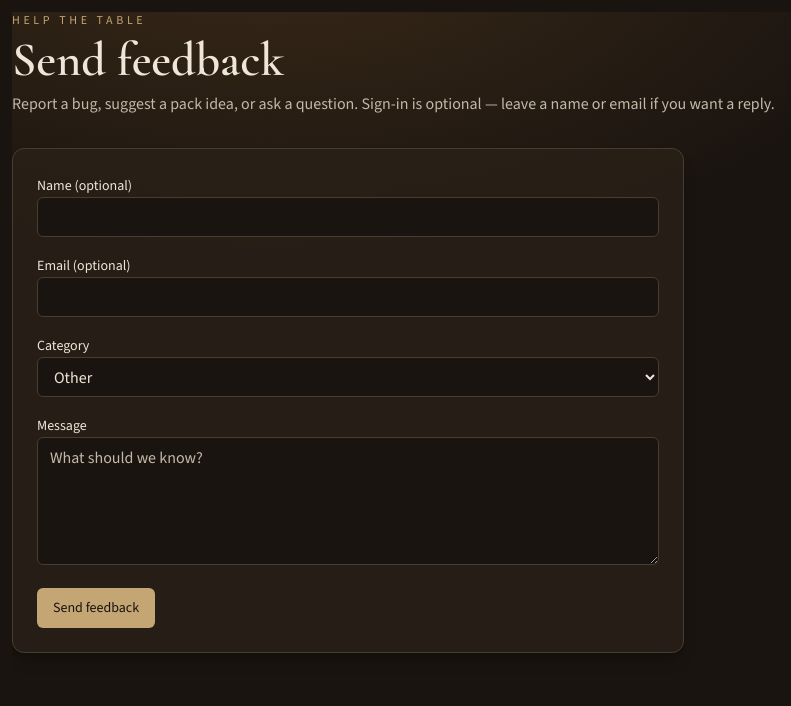
Test case: FeedbackPage › shows an error when the API rejects the submission
In the text box labelled "Message": (348, 501) x1=37 y1=437 x2=659 y2=565, type "The catalog filters are hard to use."
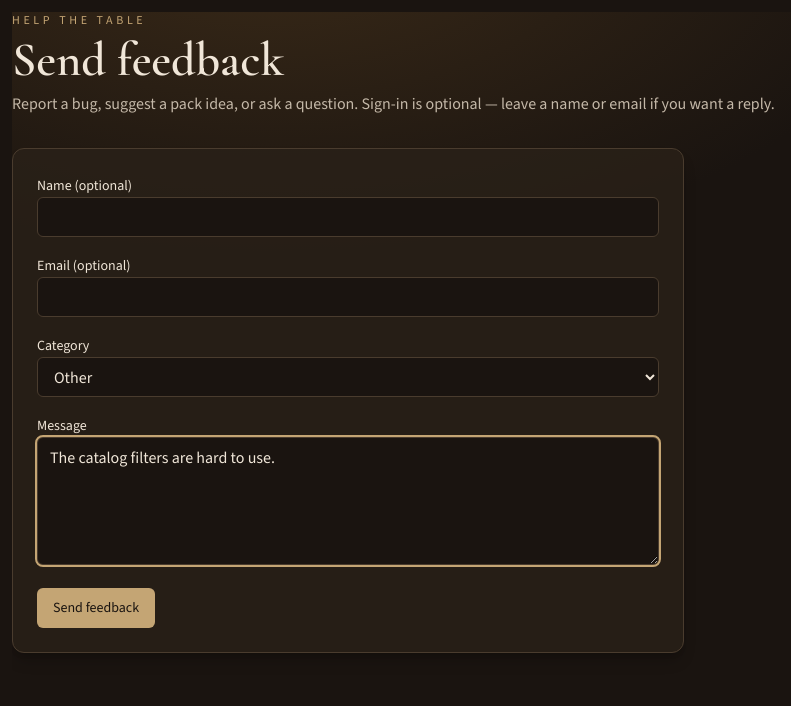
Click the button "Send feedback": (96, 608) x1=37 y1=588 x2=155 y2=628
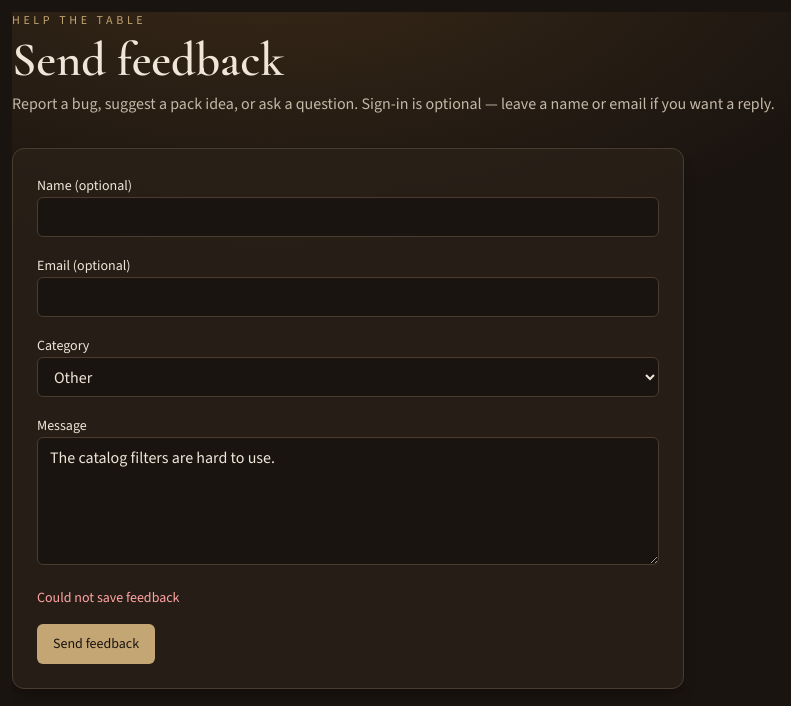
Result: the message reads "Could not save feedback" at x1=37 y1=588 x2=180 y2=607
